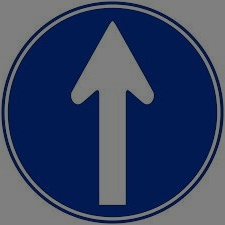Direction_sign: (5, 2, 222, 223)
